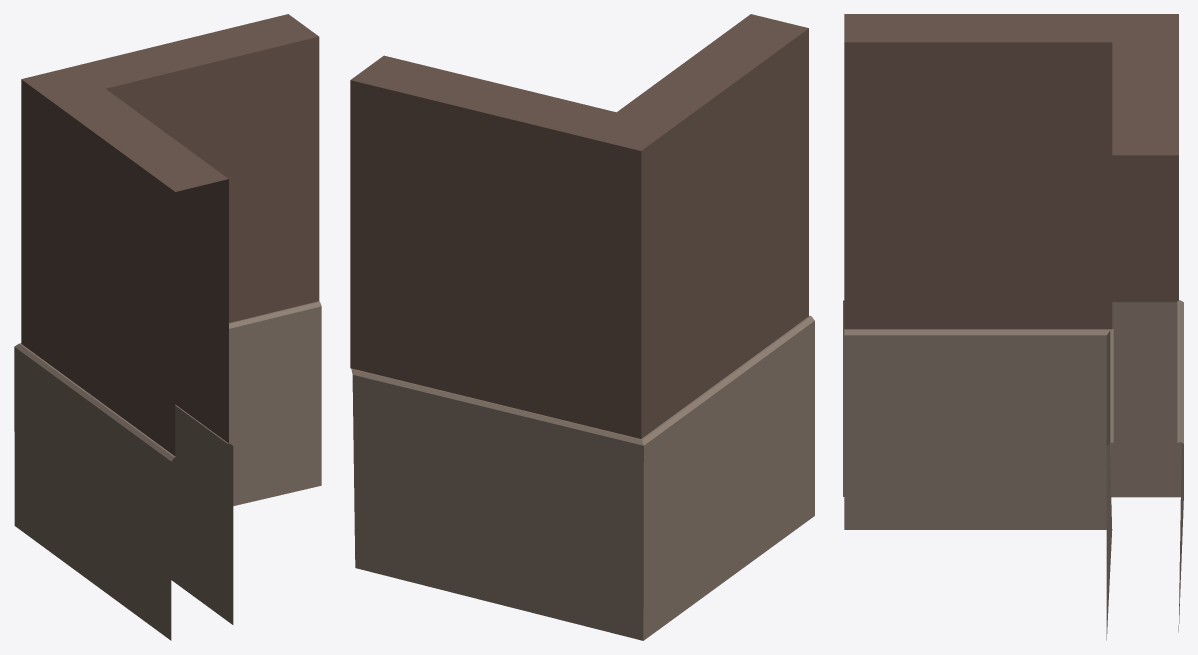
The model's file is pared_esq_sup_izq.fbx.
The picture shows the model from 3 angles, left to right: view 1: azimuth 30°, elevation 25°; view 2: azimuth 150°, elevation 25°; view 3: azimuth 270°, elevation 25°; orthographic projection. The views are drawn at different scales.
Visible parts, largest first — view 1: pared_esq__base, pared_esq__zocalo4, pared_esq__zocalo1; view 2: pared_esq__base, pared_esq__zocalo4; view 3: pared_esq__base, pared_esq__zocalo1, pared_esq__zocalo4.
Boxes of the visible parts, box(x1,y1,x2,y2) form: pared_esq__base: box(21, 14, 319, 455); pared_esq__zocalo4: box(14, 343, 175, 640); pared_esq__zocalo1: box(171, 301, 321, 624); pared_esq__base: box(350, 14, 808, 438); pared_esq__zocalo4: box(351, 316, 814, 640); pared_esq__base: box(844, 14, 1178, 329); pared_esq__zocalo1: box(844, 329, 1113, 640); pared_esq__zocalo4: box(843, 300, 1183, 632).
Size of the model in its own units: 1.28 by 2 by 1.27.
